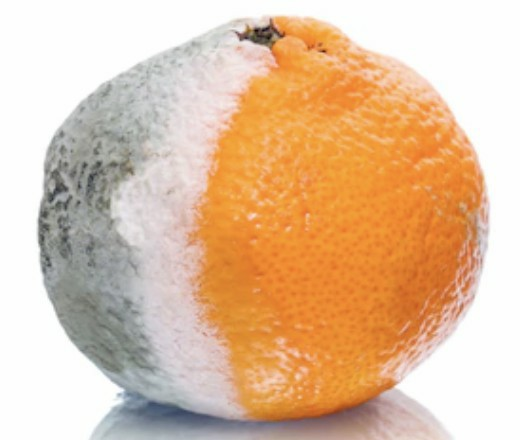rotten_orange: (38, 19, 491, 418)
